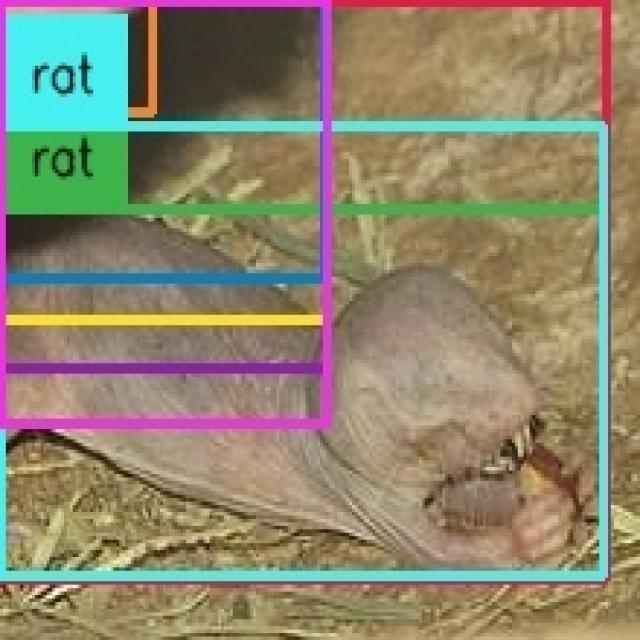rat: (0, 0, 605, 578), (1, 128, 604, 578), (0, 208, 602, 578), (1, 0, 328, 426), (0, 0, 326, 367), (0, 0, 326, 322), (0, 0, 326, 277), (0, 0, 154, 111)
